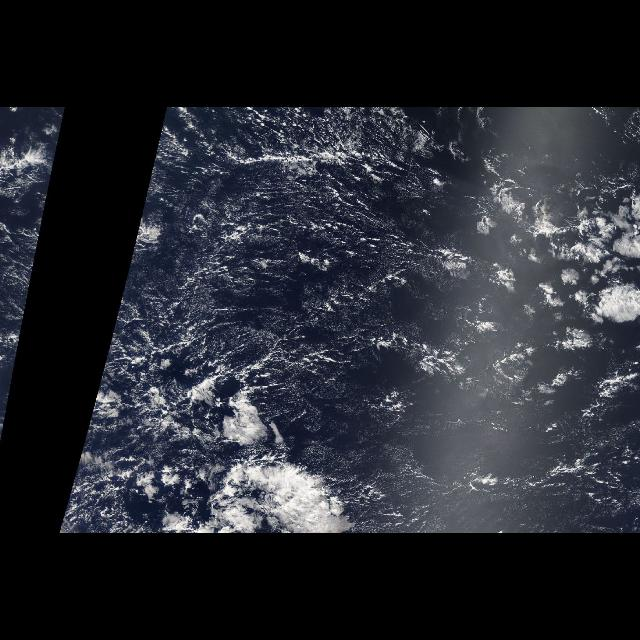Fish: (162, 350, 344, 500)
Flower: (438, 173, 640, 395)
Gravel: (165, 112, 463, 402)
Sugar: (130, 122, 490, 368)
